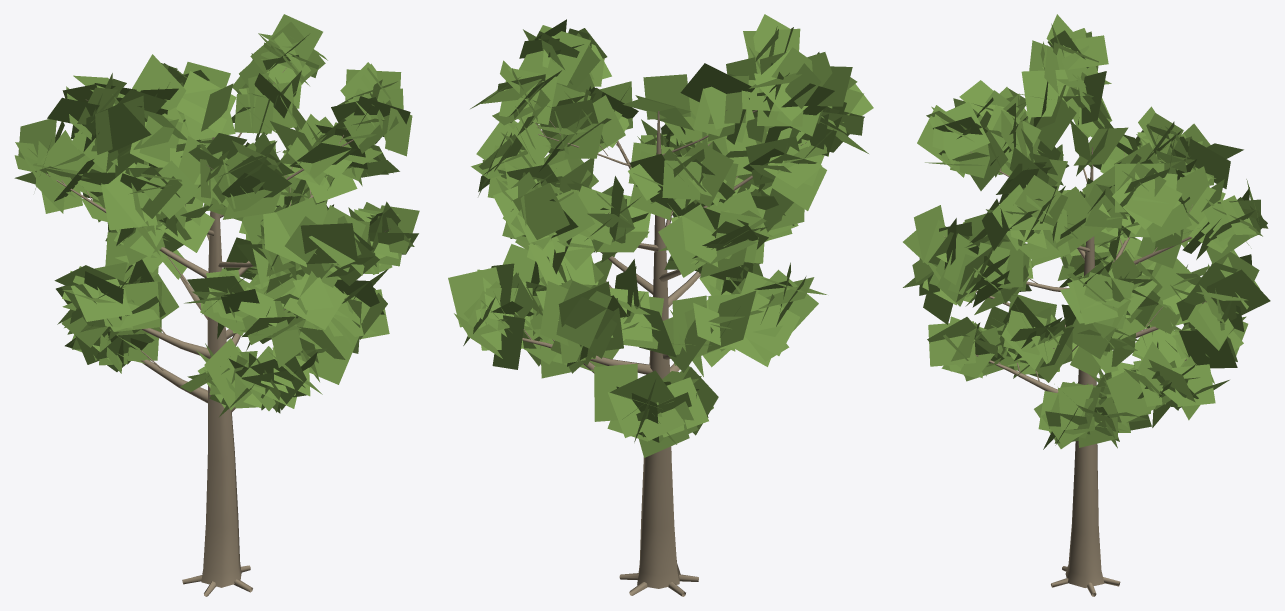
The model's file is oak-3-lod1.glb.
The picture shows the model from 3 angles, left to right: view 1: azimuth 30°, elevation 25°; view 2: azimuth 150°, elevation 25°; view 3: azimuth 270°, elevation 25°; orthographic projection. The views are drawn at different scales.
Parts seen in each view (by area): view 1: oak-3-lod1-foliage, oak-3-lod1-bark; view 2: oak-3-lod1-foliage, oak-3-lod1-bark; view 3: oak-3-lod1-foliage, oak-3-lod1-bark.
Part boxes in pixels (box(x1,y1,x2,y2)): oak-3-lod1-foliage: box(14, 14, 419, 416); oak-3-lod1-bark: box(46, 67, 390, 596); oak-3-lod1-foliage: box(448, 14, 873, 457); oak-3-lod1-bark: box(522, 110, 806, 596); oak-3-lod1-foliage: box(903, 14, 1270, 449); oak-3-lod1-bark: box(944, 123, 1211, 596).
Bounding box in the file's own units: 21.19 × 31.36 × 20.99.
